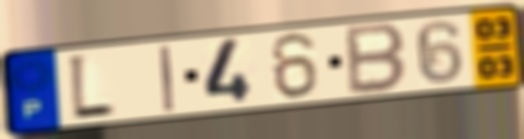4: (201, 36, 262, 109)
6: (269, 31, 322, 103), (413, 18, 466, 87)
B: (344, 21, 409, 98)
I: (156, 43, 177, 114)
L: (65, 52, 118, 124)
